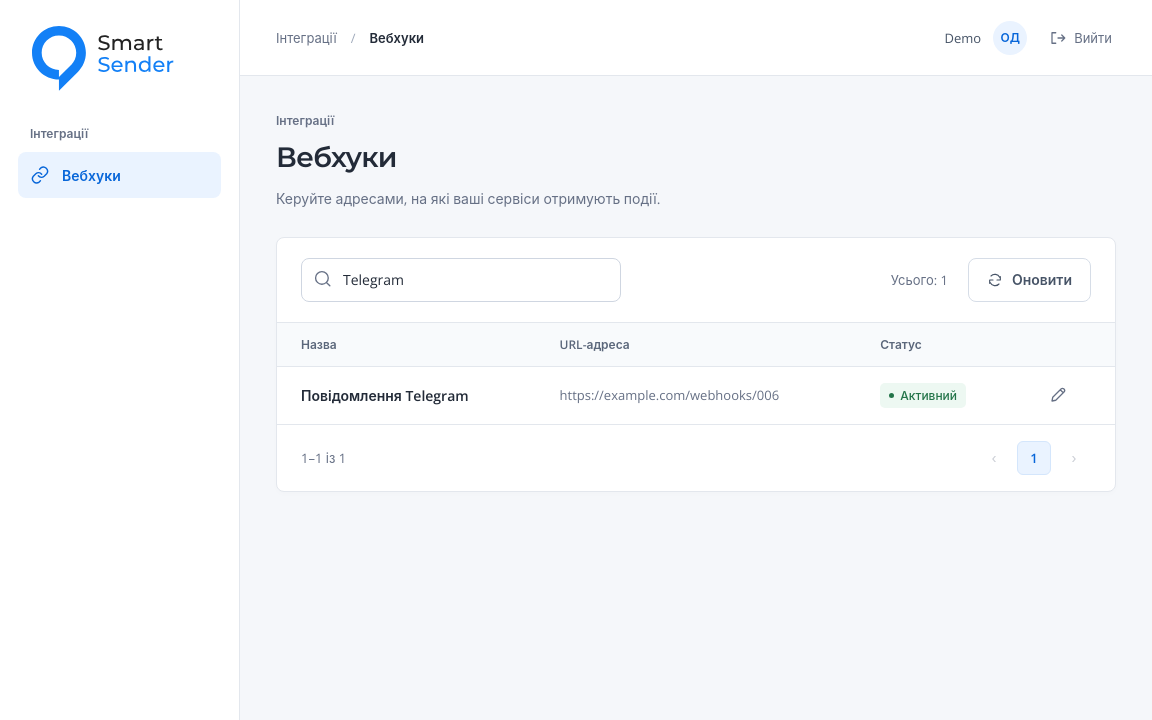
EditWebhookActor component › returns to the filtered list from navigation state after cancel
Click the link "Повідомлення Telegram". click: [385, 395]
box: top-left (301, 386), bottom-right (469, 405)
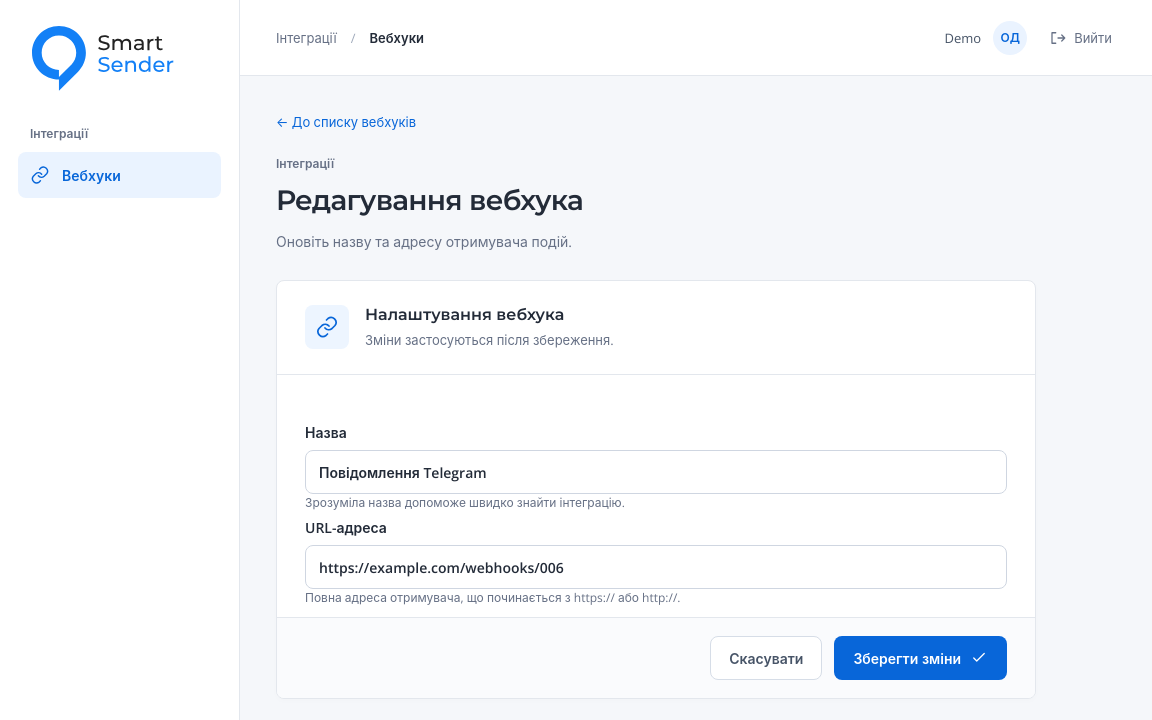
Result: the field labelled "Назва Зрозуміла назва допоможе швидко знайти інтеграцію." is shown at top-left (305, 450), bottom-right (1007, 494)
Click the link "Скасувати". click: [766, 658]
box: top-left (710, 636), bottom-right (822, 680)
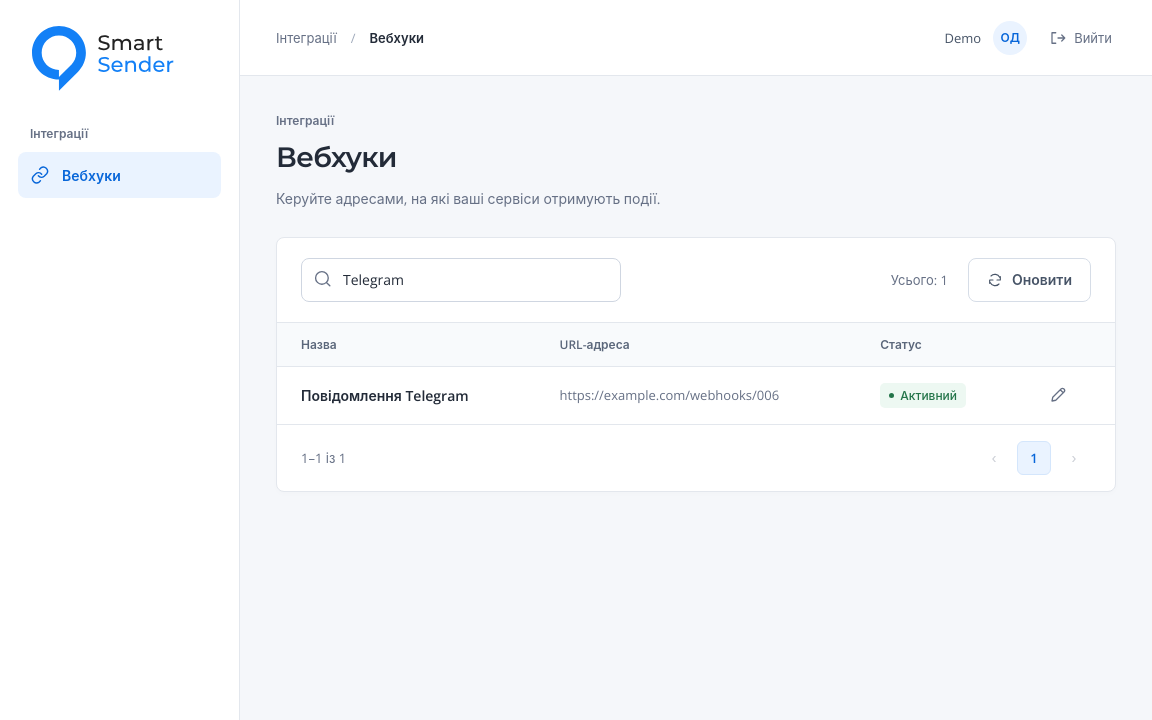
Result: the search field named "Пошук за назвою" holds "Telegram" at top-left (343, 259), bottom-right (608, 300)
Result: the link "Повідомлення Telegram" is shown at top-left (301, 386), bottom-right (469, 405)
